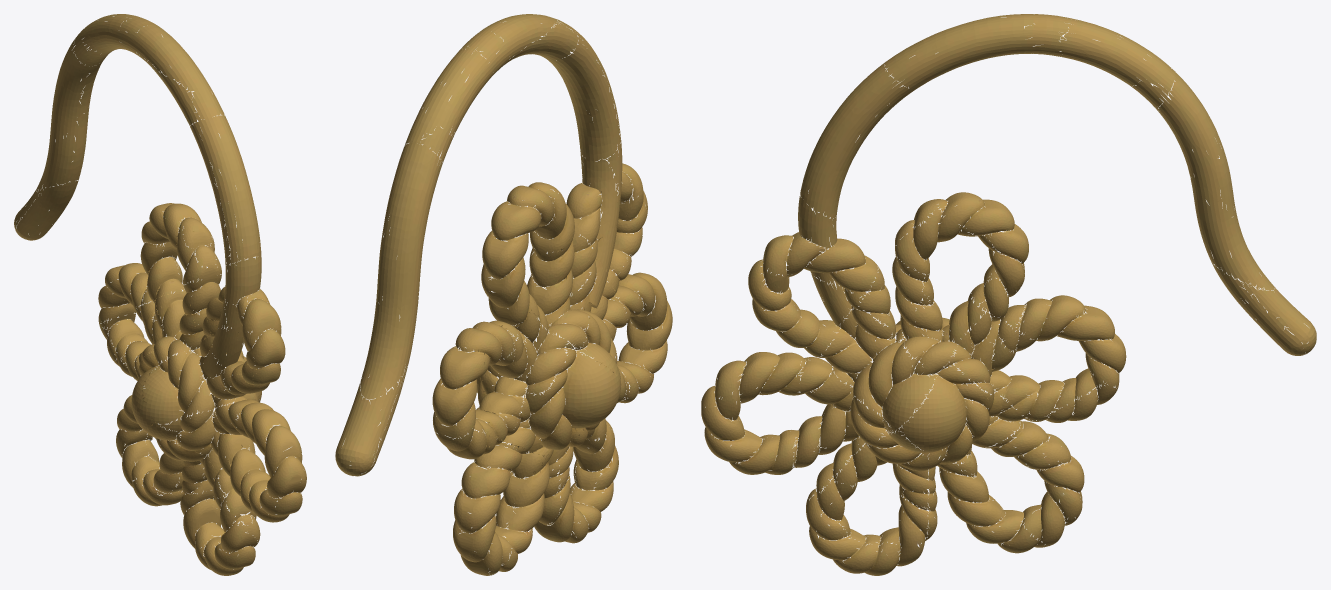
The model's file is nosepin1.glb.
3 views of the same model, side by side, from view 1: azimuth 30°, elevation 25°; view 2: azimuth 150°, elevation 25°; view 3: azimuth 270°, elevation 25° (orthographic). The views are drawn at different scales.
Parts seen in each view (by area): view 1: tripo_node_8f7a6ba5-951c-4c8a-b730-910d1f7bc4e4; view 2: tripo_node_8f7a6ba5-951c-4c8a-b730-910d1f7bc4e4; view 3: tripo_node_8f7a6ba5-951c-4c8a-b730-910d1f7bc4e4.
Part boxes in pixels (left/top/right/bottom): tripo_node_8f7a6ba5-951c-4c8a-b730-910d1f7bc4e4: left=14, top=14, right=306, bottom=575; tripo_node_8f7a6ba5-951c-4c8a-b730-910d1f7bc4e4: left=335, top=14, right=672, bottom=575; tripo_node_8f7a6ba5-951c-4c8a-b730-910d1f7bc4e4: left=701, top=14, right=1316, bottom=575.
Bounding box in the file's own units: 0.2547 × 0.999 × 1.
Materials: 1 (1 with a texture image).
